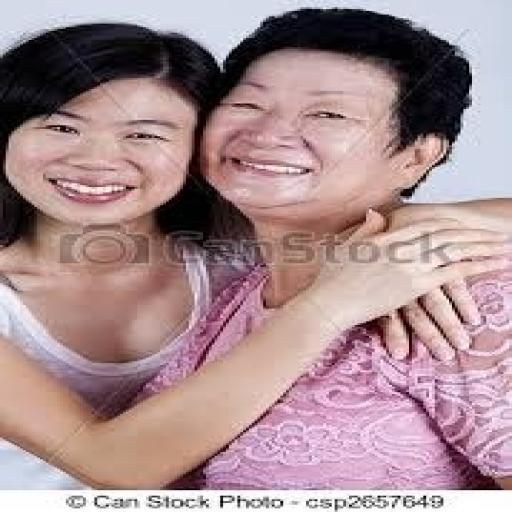hugging: (0, 9, 509, 488)
